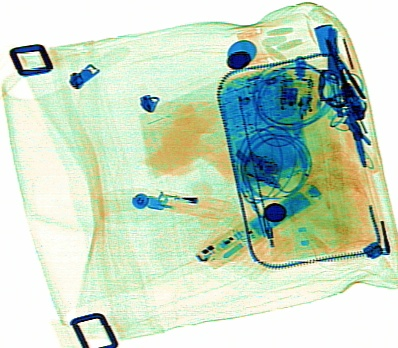lighter: (142, 185, 229, 224)
